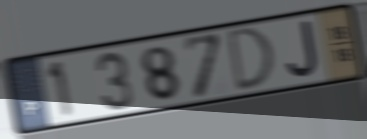1: (44, 58, 75, 121)
3: (94, 50, 134, 112)
7: (184, 30, 223, 101)
8: (138, 44, 184, 103)
D: (226, 24, 277, 96)
J: (284, 18, 320, 81)
